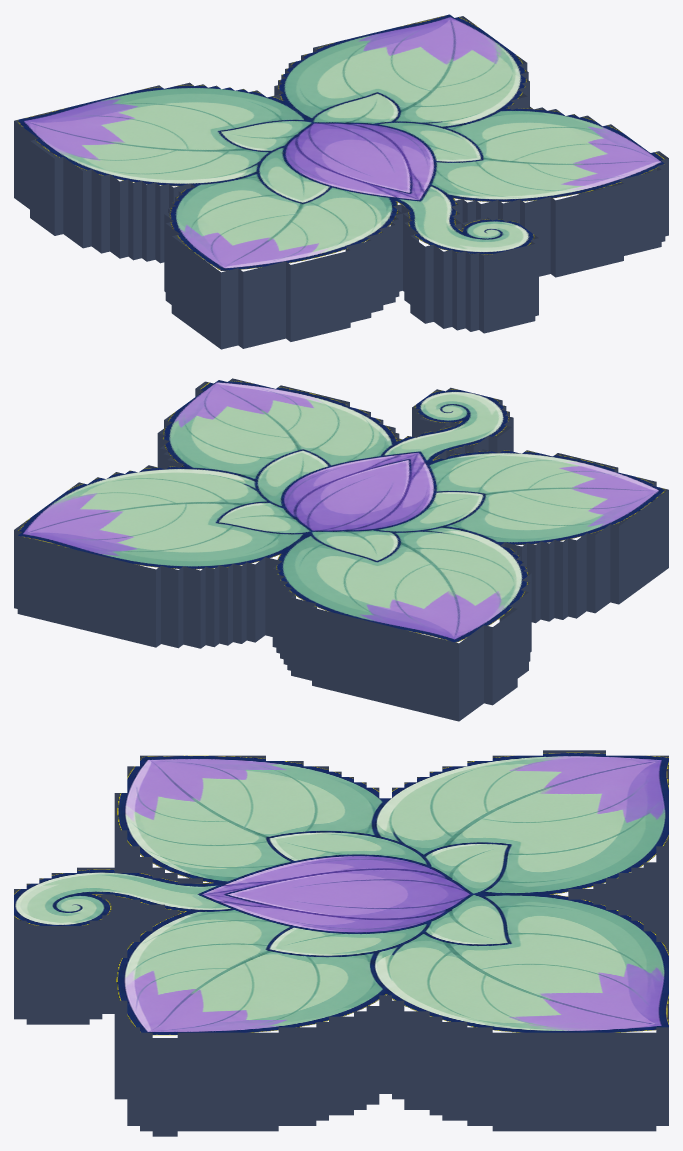
The model's file is boss_bud.glb.
3 renders of one model, top to bottom at view 1: azimuth 30°, elevation 25°; view 2: azimuth 150°, elevation 25°; view 3: azimuth 270°, elevation 25°, orthographic. The views are drawn at different scales.
Parts seen in each view (by area): view 1: boss_bud; view 2: boss_bud; view 3: boss_bud.
Part boxes in pixels (x1,y1,x2,y2): boss_bud: [14, 14, 668, 349]; boss_bud: [14, 378, 668, 721]; boss_bud: [14, 750, 668, 1136].
Size of the model in its own units: 0.75 by 0.12 by 0.7222.
2 materials, 1 textured.
